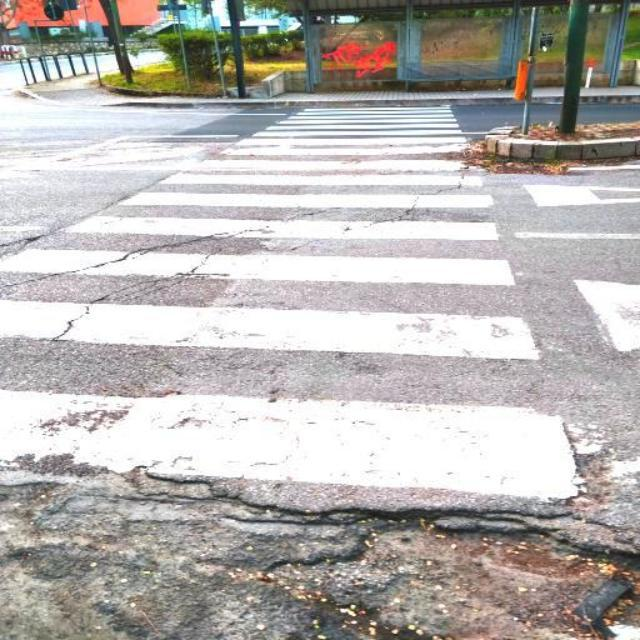sidewalk: (8, 107, 573, 495)
